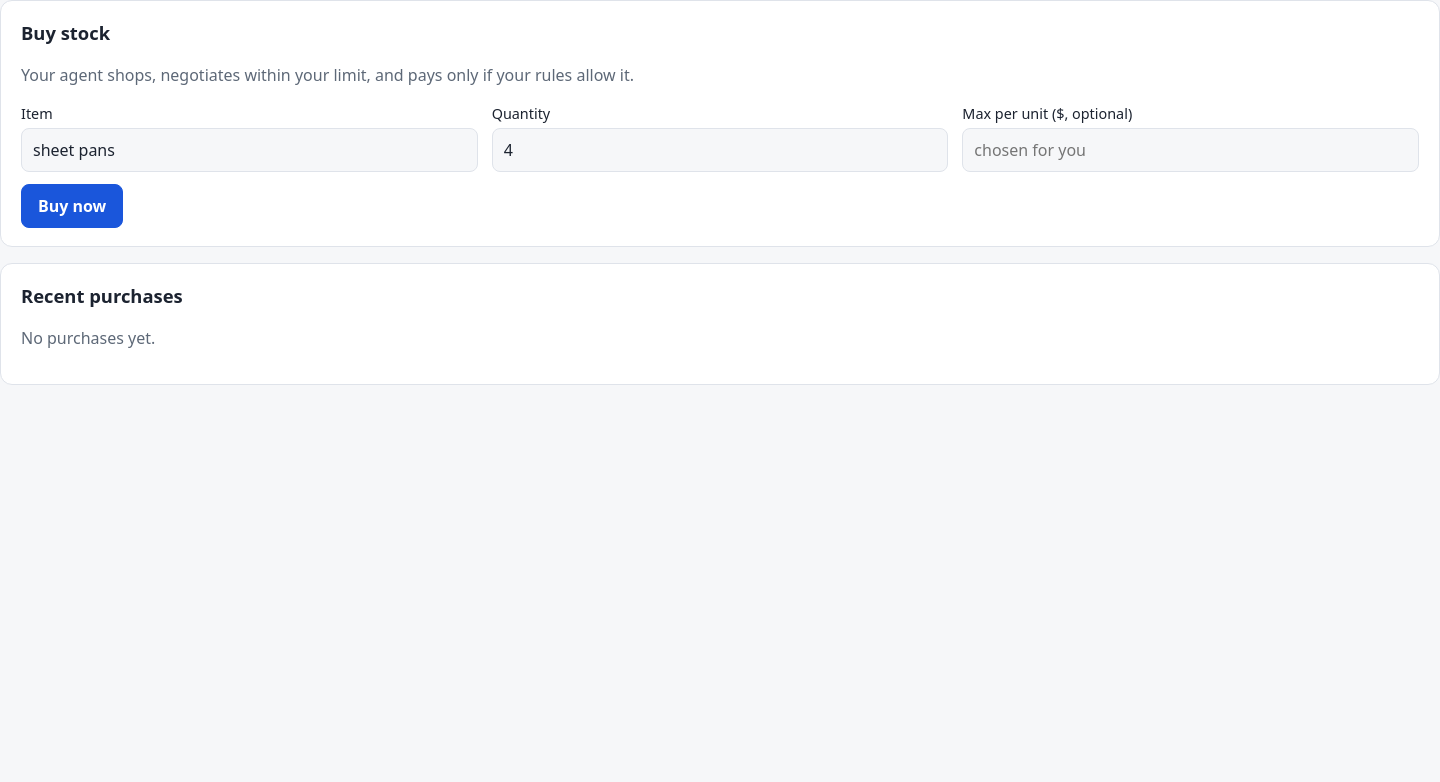
Test: PurchaseScreen › lets the owner reject a held order
Click the button "Buy now". click: [72, 206]
box: [21, 184, 123, 228]
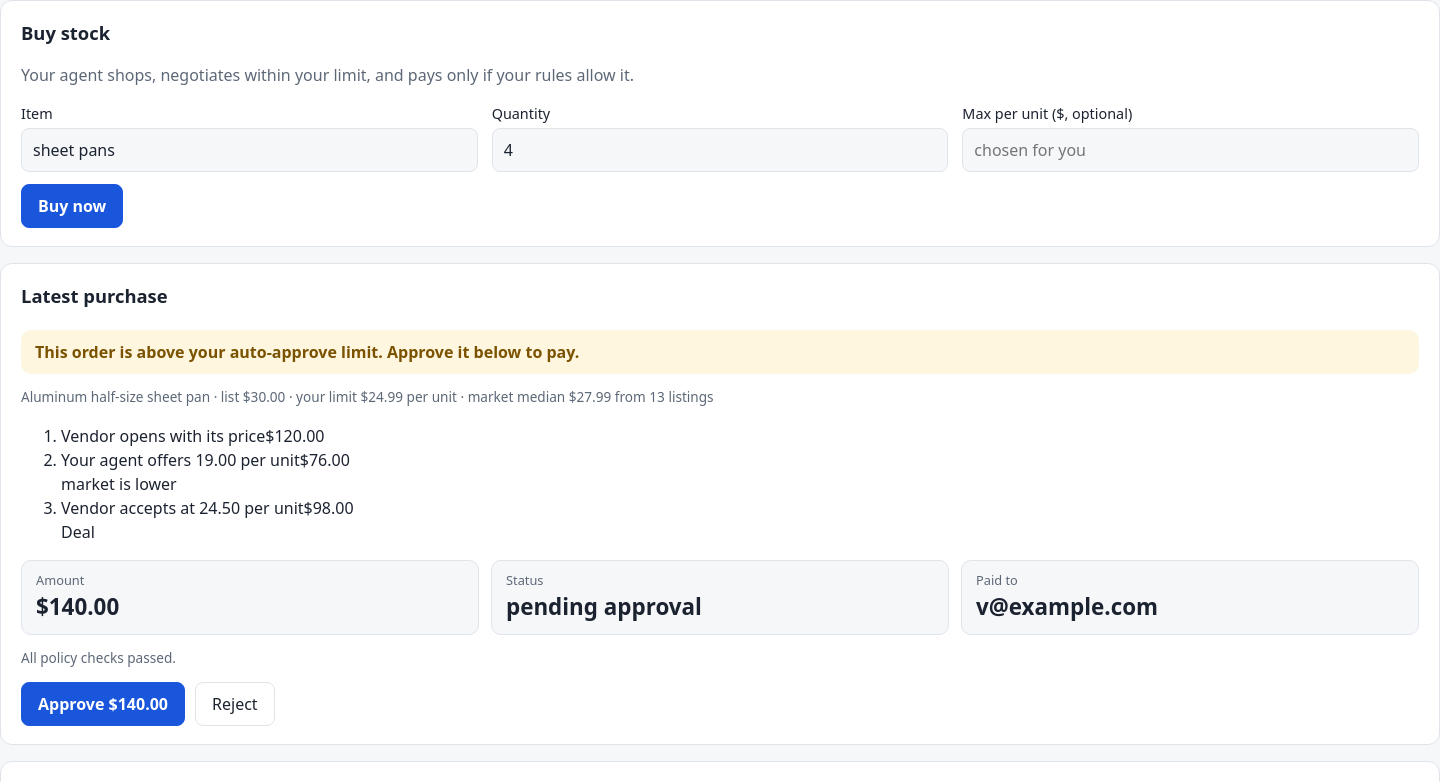
Click the button "Reject". click: [235, 704]
box: [195, 682, 275, 726]
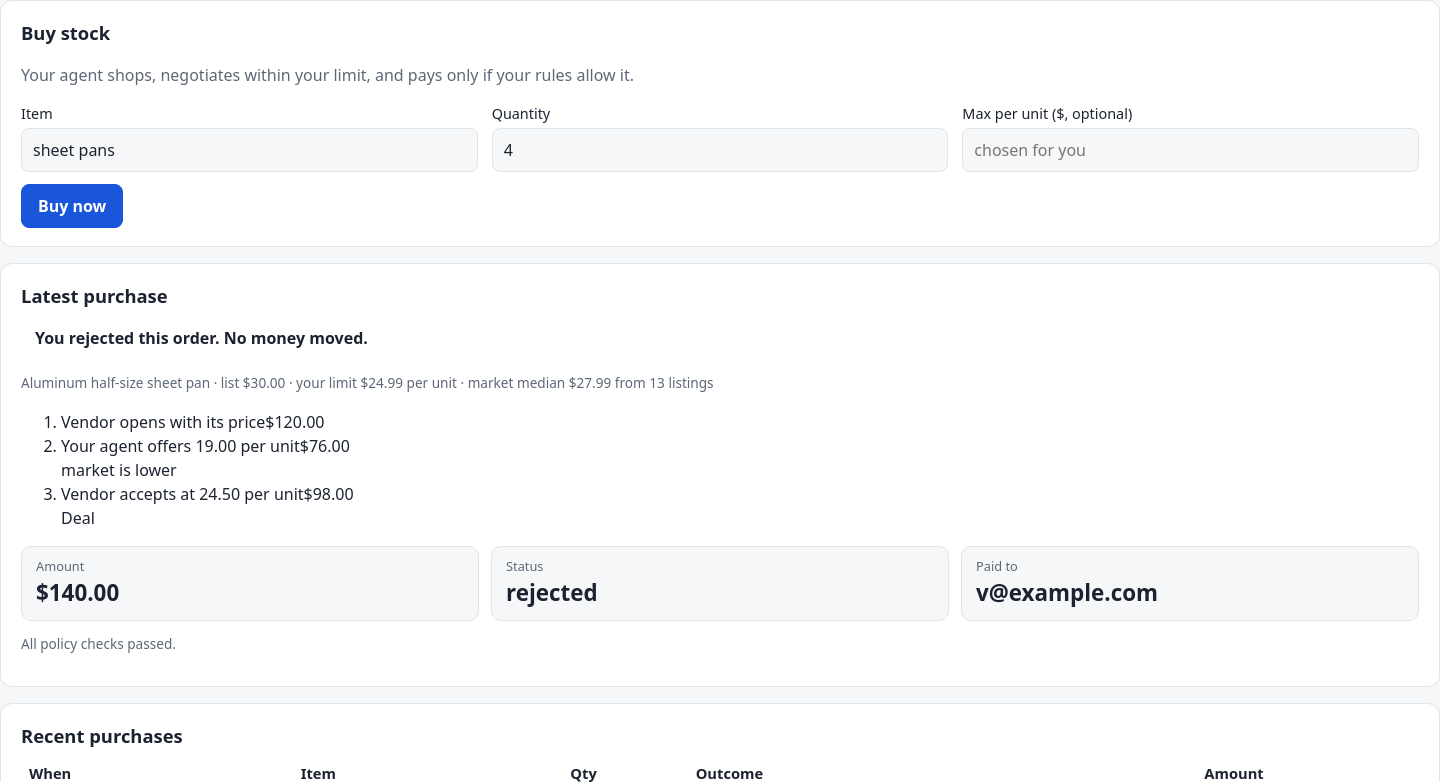
expect the text "You rejected this order. No money moved." is shown: met, box [35, 327, 368, 349]
